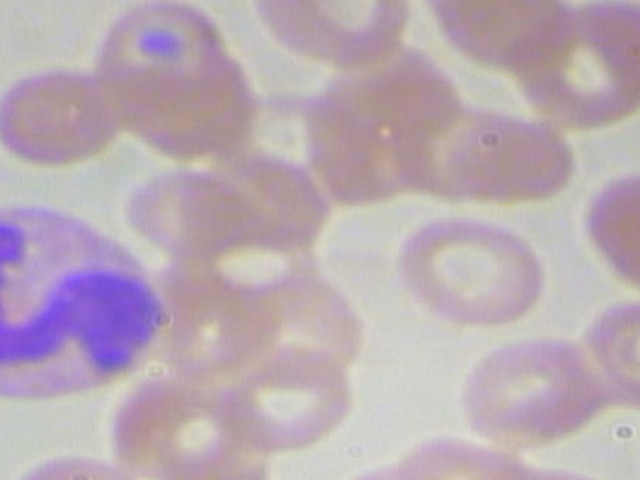RBC: (374, 214, 554, 330), (447, 333, 601, 451), (509, 0, 640, 129), (0, 61, 132, 170), (245, 0, 420, 72), (454, 116, 579, 209), (572, 166, 640, 304), (574, 292, 640, 410)
WBC: (0, 200, 179, 403)
